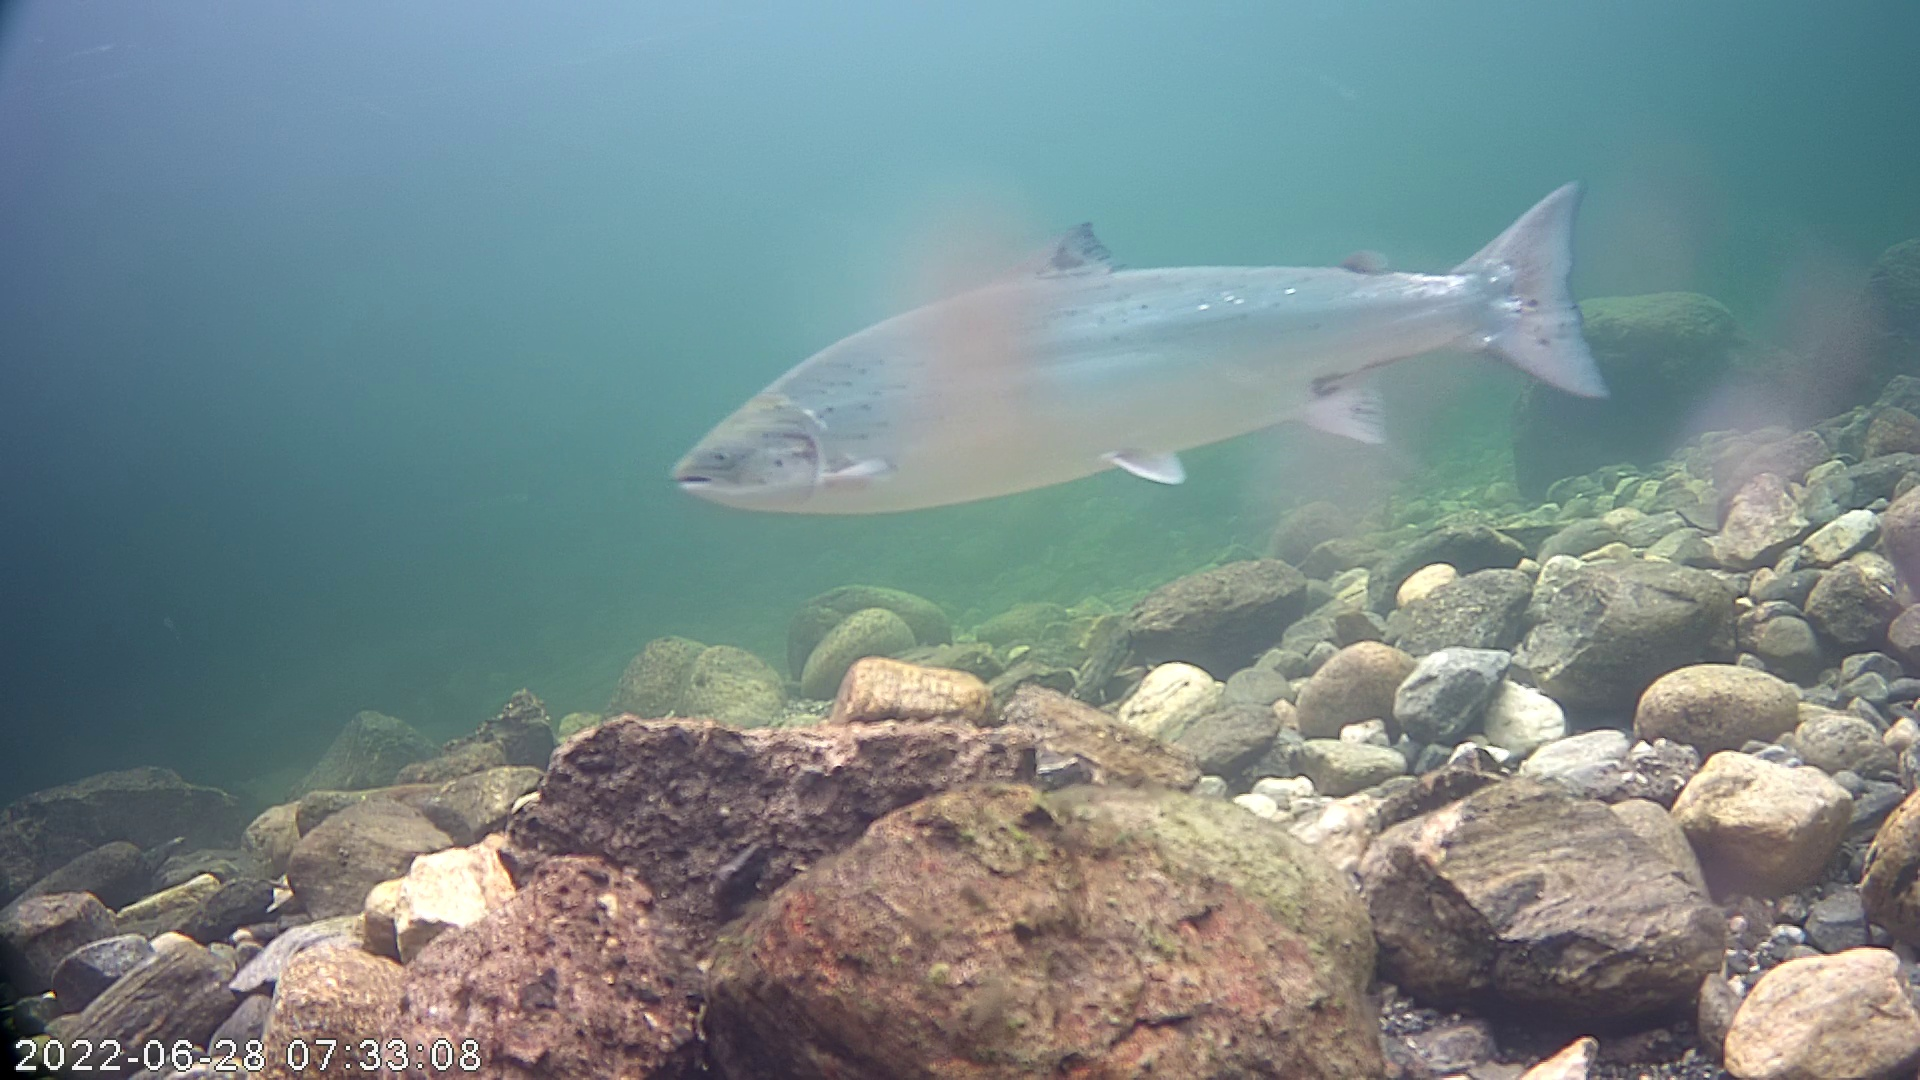salmon: (655, 156, 1639, 535)
